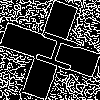H: (25, 25, 80, 74)
